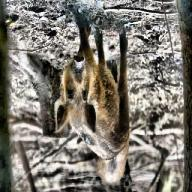boar: (52, 13, 129, 185)
